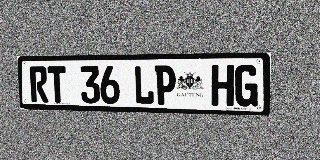3: (80, 66, 100, 104)
6: (100, 66, 120, 104)
G: (234, 65, 259, 107)
H: (211, 65, 234, 106)
L: (133, 66, 154, 105)
P: (155, 65, 176, 105)
R: (29, 66, 49, 103)
T: (47, 66, 67, 103)
